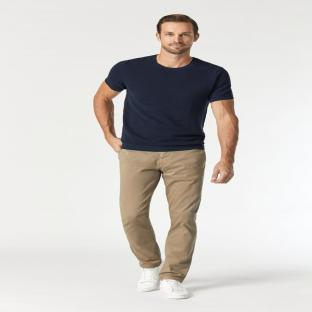Human: (94, 14, 238, 299)
